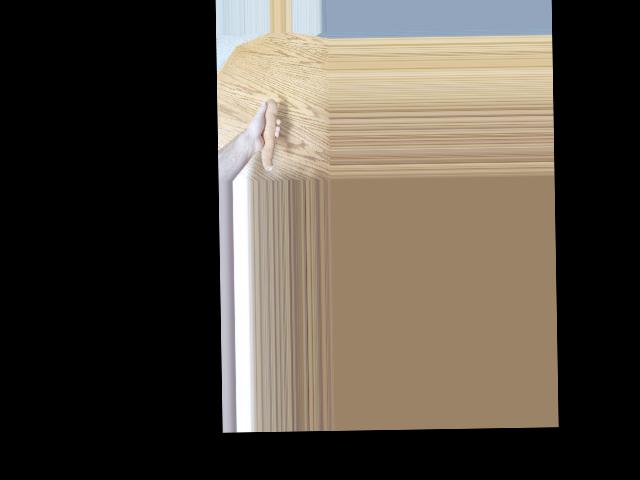sweet_potato: (254, 98, 279, 173)
